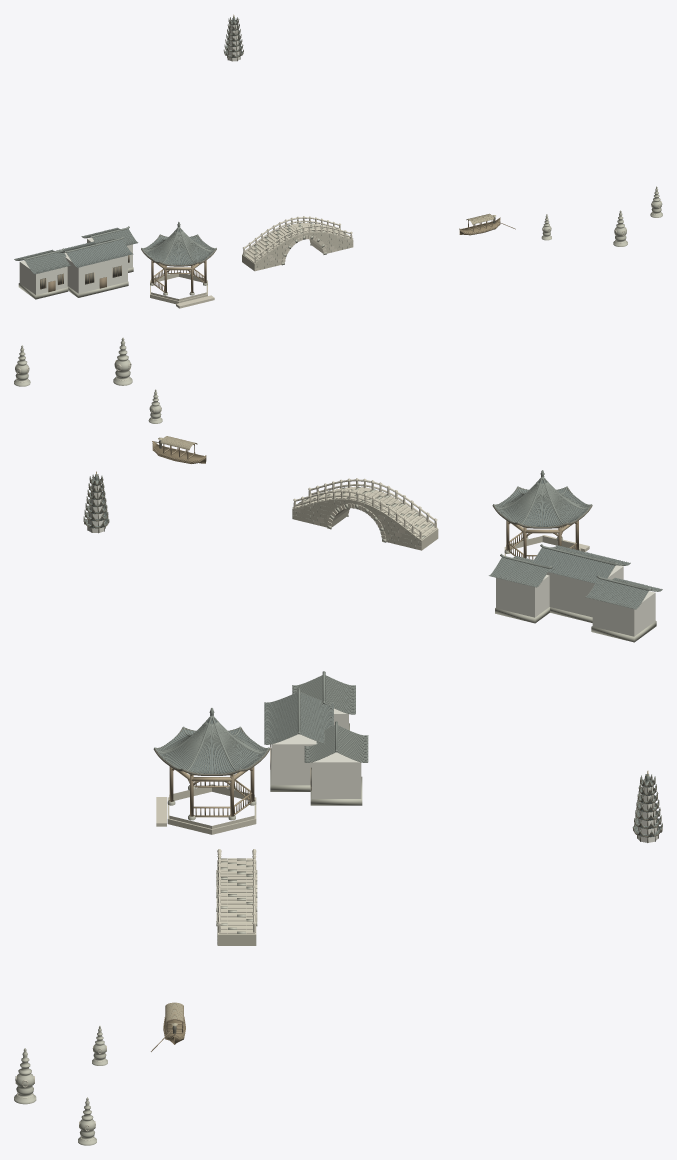
The model's file is architecture.glb.
The picture shows the model from 3 angles, top to bottom: view 1: azimuth 30°, elevation 25°; view 2: azimuth 150°, elevation 25°; view 3: azimuth 270°, elevation 25°; orthographic projection. The views are drawn at different scales.
Visible parts, largest first — view 1: ridge, roof, plaster, stoneedge, stone, stone2, wooddark, woodlight, wood; view 2: ridge, roof, plaster, stoneedge, stone2, stone, wooddark, woodlight, wood, boat; view 3: ridge, plaster, roof, stone2, stone, stoneedge, woodlight, wooddark, wood.
Part boxes in pixels (x1,y1,x2,y2): ridge: (14,16,243,274); roof: (15,21,242,274); plaster: (19,25,240,294); stoneedge: (176,201,661,308); stone: (150,228,353,304); stone2: (18,186,662,299); wooddark: (40,18,495,289); woodlight: (40,213,500,292); wood: (48,220,515,292); ridge: (83,470,662,609); roof: (86,480,661,609); plaster: (88,485,655,636); stoneedge: (15,360,589,551); stone2: (14,337,656,642); stone: (292,492,580,555); wooddark: (83,440,592,533); woodlight: (152,436,576,556); wood: (152,441,578,559); boat: (152,441,206,463); ridge: (154,671,662,837); plaster: (271,708,658,842); roof: (157,686,659,837); stone2: (14,723,362,1145); stone: (167,784,256,945); stoneedge: (15,797,257,1140); woodlight: (163,745,310,1039); wooddark: (153,728,662,1033); wood: (151,766,311,1051).
Size of the model in its own units: 79.72 by 17.01 by 52.11.
